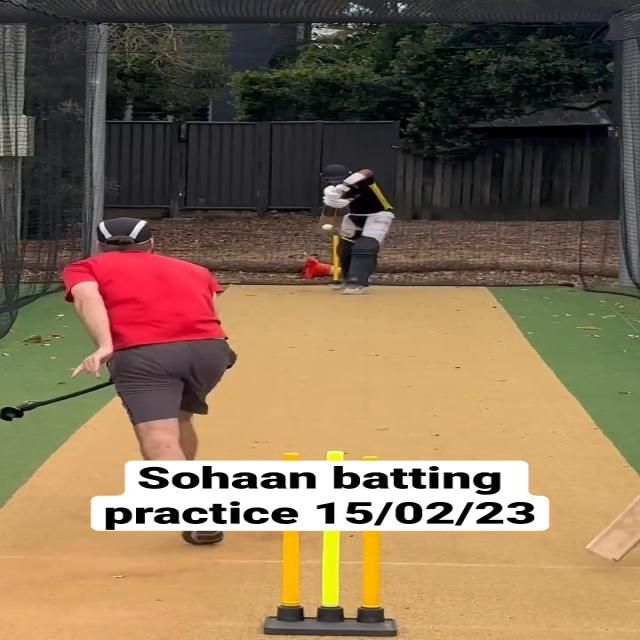ball: (321, 223, 334, 230)
stump: (265, 530, 399, 636)
